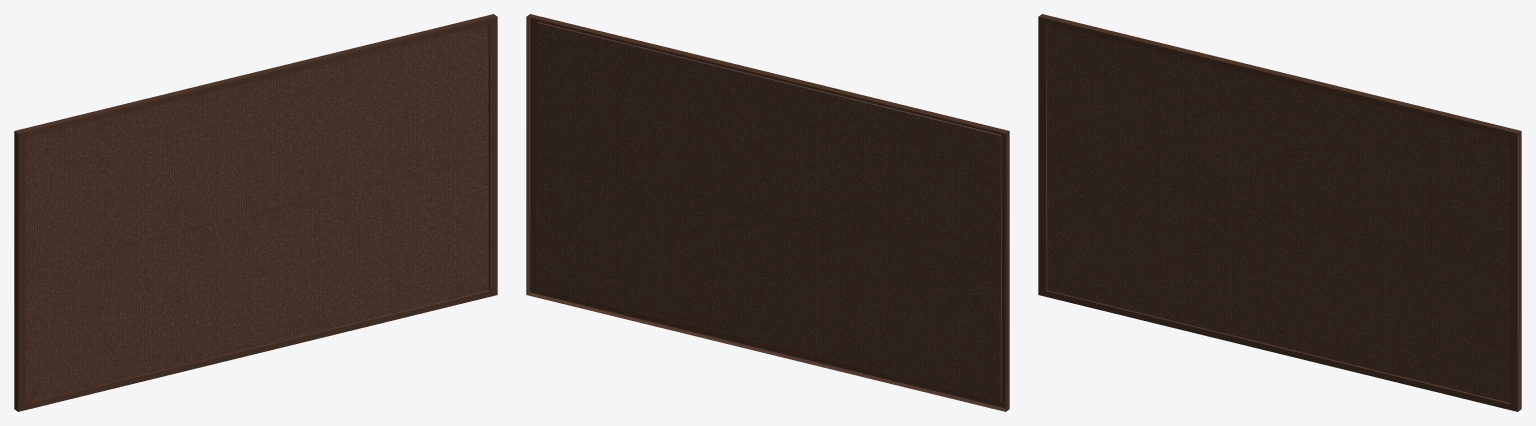
Rendered from board.glb.
The picture shows the model from 3 angles, left to right: view 1: azimuth 30°, elevation 25°; view 2: azimuth 150°, elevation 25°; view 3: azimuth 330°, elevation 25°; orthographic projection.
Parts seen in each view (by area): view 1: board; view 2: board; view 3: board.
Part boxes in pixels (x1,y1,x2,y2): board: (14,14,497,411); board: (526,14,1009,411); board: (1038,14,1521,411).
Bounding box in the file's own units: 2.68 × 1.49 × 0.0364.
1 material, 1 textured.
